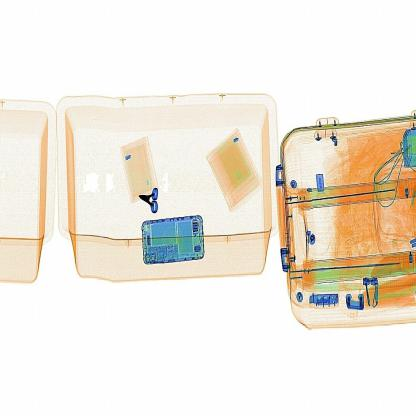gun: (136, 186, 167, 214)
